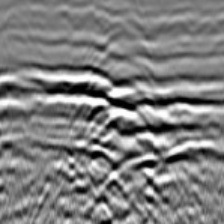cavities: (31, 60, 200, 209)
